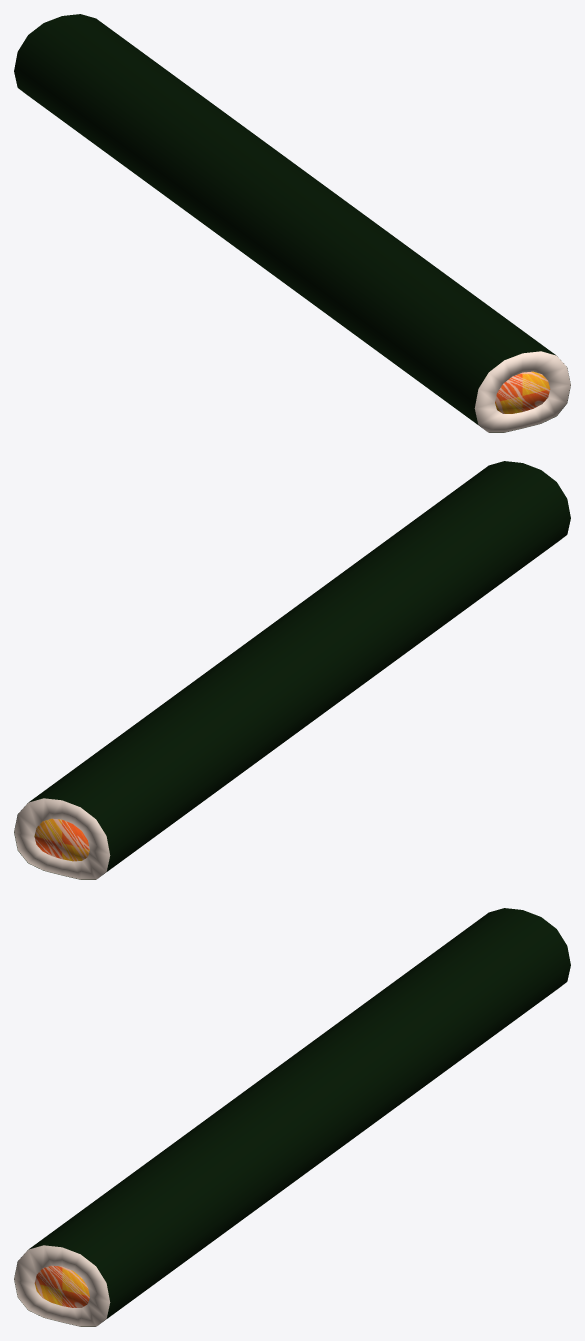
Rendered from futomaki.fbx.
The picture shows the model from 3 angles, top to bottom: view 1: azimuth 30°, elevation 25°; view 2: azimuth 150°, elevation 25°; view 3: azimuth 330°, elevation 25°; orthographic projection.
Visible parts, largest first — view 1: Cylinder.003; view 2: Cylinder.003; view 3: Cylinder.003.
Part boxes in pixels (x1,y1,x2,y2): Cylinder.003: (14,14,570,432); Cylinder.003: (14,461,570,879); Cylinder.003: (14,908,570,1326).
Bounding box in the file's own units: 8.69 × 6.5 × 72.07.
